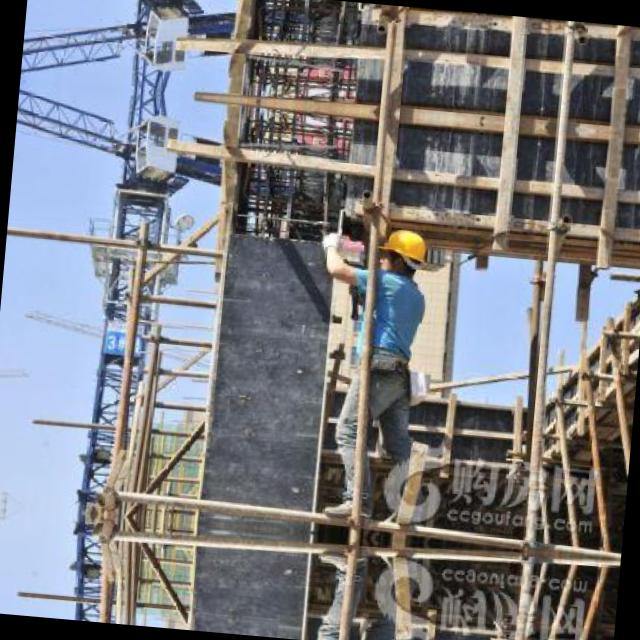helmet: (378, 222, 432, 278)
